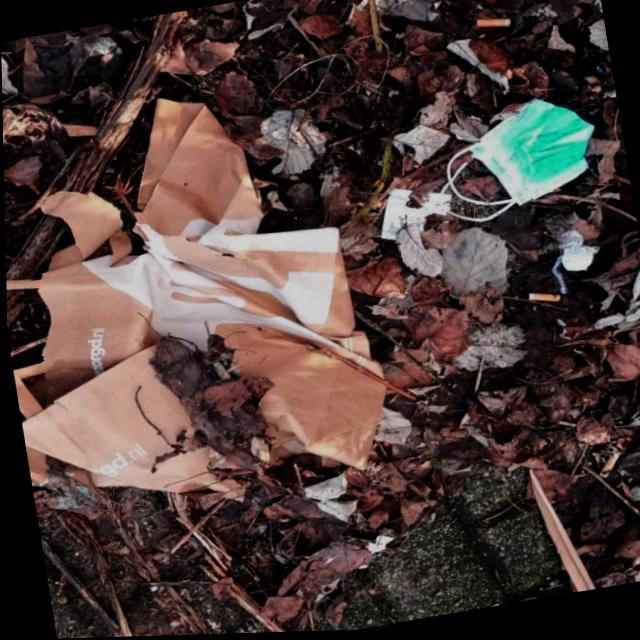Mask: (422, 90, 612, 233)
Paper: (1, 67, 401, 537), (372, 181, 459, 251), (553, 228, 604, 279)
